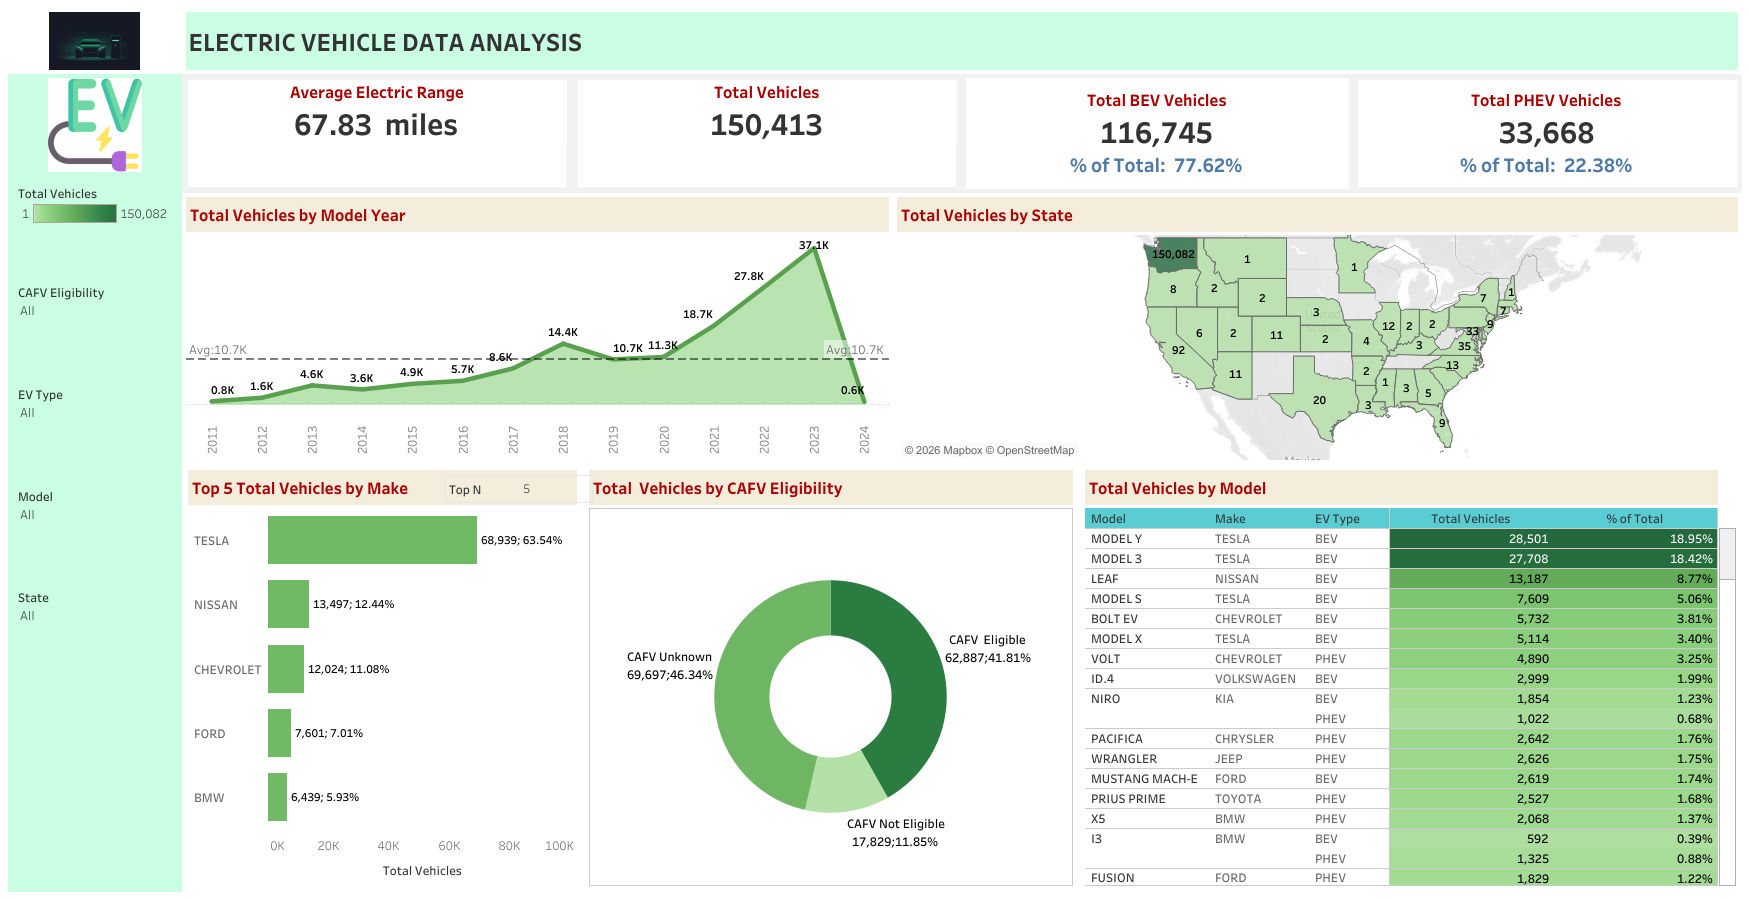

This screenshot's page, from the dashboard's own definition file:
{"tool":"tableau","page":{"name":"Dashboard 1","canvas":[1000,1000],"units":"permille","ordinal":0},"visuals":[{"type":"image","param":"Image/EV.jpg","box":[5,8.9,99.4,73.3]},{"type":"title","box":[104.4,8.9,890.6,73.3]},{"type":"image","param":"Image/images.png","box":[8.8,82.2,91.9,113.3]},{"type":"worksheet","title":"Average Electric Range","mark":"Automatic","box":[104.4,82.2,223.1,132.2]},{"type":"worksheet","title":"Total Vehicles","mark":"Automatic","box":[327.5,82.2,222.5,132.2]},{"type":"worksheet","title":"Total BEV Vehicles","mark":"Automatic","box":[550,82.2,222.5,132.2]},{"type":"worksheet","title":"Total PHEV Vehicles","mark":"Automatic","box":[772.5,82.2,222.5,132.2]},{"type":"legend","title":"Total Vehicles by State","param":"[federated.07c68sj0bigr631bh2vrx0qi7p36].[usr:Calculation_1705116403486720:qk]","box":[8.8,195.6,91.9,113.3]},{"type":"worksheet","title":"Total Vehicles by Model Year","mark":"Area","rows":["Calculation_1705116403486720","Calculation_1705116403486720"],"cols":["Model Year"],"box":[104.4,214.4,444.4,301.1]},{"type":"worksheet","title":"Total Vehicles by State","mark":"Multipolygon","box":[548.8,214.4,446.2,301.1]},{"type":"filter","title":"Total Vehicles by Model Year","param":"[federated.07c68sj0bigr631bh2vrx0qi7p36].[none:Clean Alternative Fuel Vehicle (C","box":[8.8,308.9,91.9,113.3]},{"type":"filter","title":"Total Vehicles by Model Year","param":"[federated.07c68sj0bigr631bh2vrx0qi7p36].[none:Electric Vehicle Type:nk]","box":[8.8,422.2,91.9,113.3]},{"type":"worksheet","title":"Top 10 Total Vehicles by Make","mark":"Automatic","rows":["Make"],"cols":["Calculation_1705116403486720"],"box":[104.4,515.5,250.6,475.6]},{"type":"worksheet","title":"Total  Vehicles by CAFV Eligibility","mark":"Pie","rows":["Calculation_1705116445356040","Calculation_1705116445356040"],"box":[355,515.5,225.6,475.6]},{"type":"worksheet","title":"Total Vehicles by Model","mark":"Square","rows":["Model","Make","Electric Vehicle Type"],"box":[580.6,515.5,414.4,475.6]},{"type":"parameter","param":"[Parameters].[Parameter 1]","box":[254.4,527.8,84.4,31.1]},{"type":"filter","title":"Total Vehicles by Model Year","param":"[federated.07c68sj0bigr631bh2vrx0qi7p36].[none:Model:nk]","box":[8.8,535.6,91.9,112.2]},{"type":"filter","title":"Total Vehicles by Model Year","param":"[federated.07c68sj0bigr631bh2vrx0qi7p36].[none:State:nk]","box":[8.8,647.8,91.9,112.2]},{"type":"blank","box":[8.8,760,91.9,112.2]},{"type":"blank","box":[8.8,872.2,91.9,112.2]}]}

Visuals, with their boxes on the dashboard's canvas, which has no fixed pixel size, in thousandths of its width and height (x1, y1, x2, y2). These are canvas units, not pixel positions in the 1749x899 screenshot, which may show the page scaled, cropped or inside an application window:
image: {"x1": 5, "y1": 9, "x2": 104, "y2": 82}
title: {"x1": 104, "y1": 9, "x2": 995, "y2": 82}
image: {"x1": 9, "y1": 82, "x2": 101, "y2": 196}
"Average Electric Range" worksheet: {"x1": 104, "y1": 82, "x2": 328, "y2": 214}
"Total Vehicles" worksheet: {"x1": 328, "y1": 82, "x2": 550, "y2": 214}
"Total BEV Vehicles" worksheet: {"x1": 550, "y1": 82, "x2": 772, "y2": 214}
"Total PHEV Vehicles" worksheet: {"x1": 772, "y1": 82, "x2": 995, "y2": 214}
"Total Vehicles by State" legend: {"x1": 9, "y1": 196, "x2": 101, "y2": 309}
"Total Vehicles by Model Year" worksheet (Area marks): {"x1": 104, "y1": 214, "x2": 549, "y2": 516}
"Total Vehicles by State" worksheet (Multipolygon marks): {"x1": 549, "y1": 214, "x2": 995, "y2": 516}
"Total Vehicles by Model Year" filter: {"x1": 9, "y1": 309, "x2": 101, "y2": 422}
"Total Vehicles by Model Year" filter: {"x1": 9, "y1": 422, "x2": 101, "y2": 536}
"Top 10 Total Vehicles by Make" worksheet: {"x1": 104, "y1": 516, "x2": 355, "y2": 991}
"Total  Vehicles by CAFV Eligibility" worksheet (Pie marks): {"x1": 355, "y1": 516, "x2": 581, "y2": 991}
"Total Vehicles by Model" worksheet (Square marks): {"x1": 581, "y1": 516, "x2": 995, "y2": 991}
parameter: {"x1": 254, "y1": 528, "x2": 339, "y2": 559}
"Total Vehicles by Model Year" filter: {"x1": 9, "y1": 536, "x2": 101, "y2": 648}
"Total Vehicles by Model Year" filter: {"x1": 9, "y1": 648, "x2": 101, "y2": 760}
blank: {"x1": 9, "y1": 760, "x2": 101, "y2": 872}
blank: {"x1": 9, "y1": 872, "x2": 101, "y2": 984}
